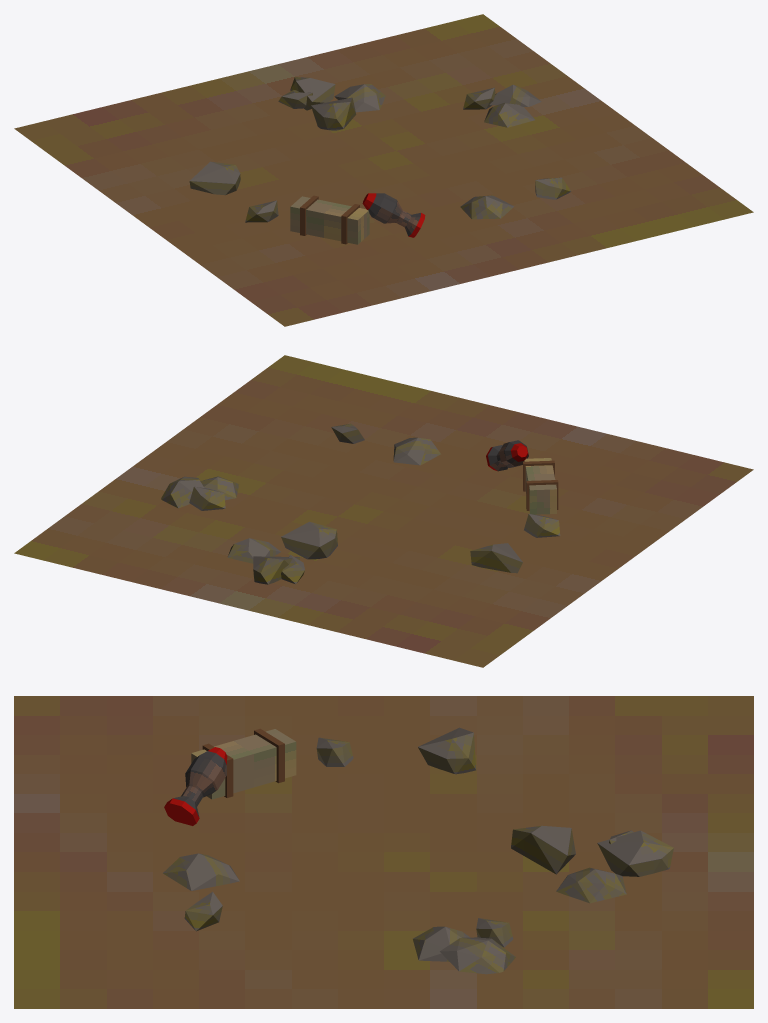
File: floor.gltf
3 renders of one model, top to bottom at view 1: azimuth 30°, elevation 25°; view 2: azimuth 150°, elevation 25°; view 3: azimuth 270°, elevation 25°, orthographic. The views are drawn at different scales.
Visible parts, largest first — view 1: ground; view 2: ground; view 3: ground.
Part boxes in pixels (left/top/right/bottom): ground: left=14, top=14, right=753, bottom=326; ground: left=14, top=355, right=753, bottom=667; ground: left=14, top=696, right=753, bottom=1008.
Bounding box in the file's own units: 40 × 3.75 × 40.
Materials: 6 (6 with a texture image).
